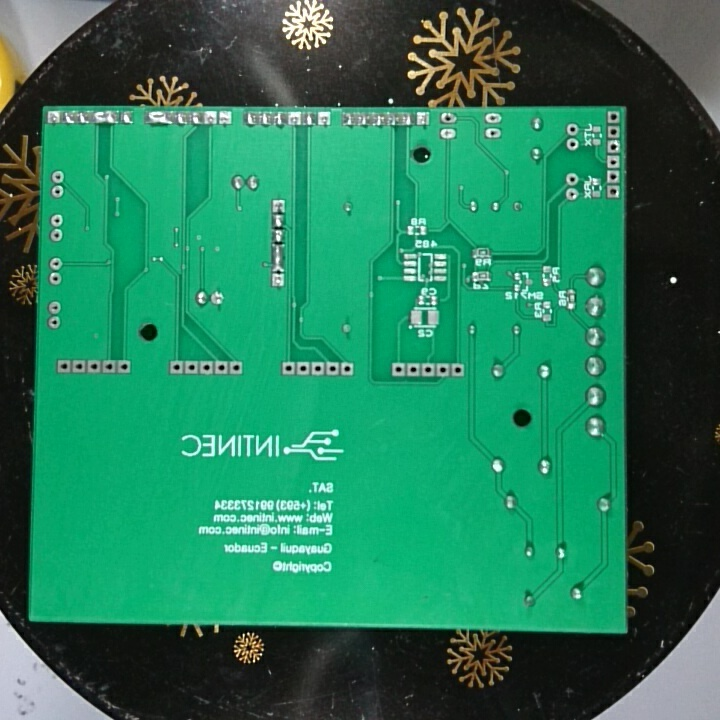F: (336, 320, 356, 339), (116, 357, 135, 376), (45, 269, 64, 288), (315, 109, 332, 130), (100, 357, 116, 378), (441, 125, 462, 141), (47, 255, 66, 272), (210, 290, 227, 309), (198, 358, 214, 378), (391, 360, 407, 380), (439, 112, 461, 126), (55, 358, 73, 375), (167, 358, 184, 376), (47, 226, 64, 244), (86, 356, 101, 376), (484, 126, 507, 139), (270, 272, 290, 286), (202, 109, 216, 129), (71, 359, 87, 376), (310, 360, 326, 377), (510, 198, 526, 215), (50, 184, 66, 201), (604, 123, 622, 138), (50, 168, 65, 186), (484, 111, 503, 125), (407, 360, 420, 380), (421, 360, 434, 380), (279, 360, 295, 376), (565, 138, 581, 154), (213, 358, 228, 375), (48, 212, 65, 227), (47, 299, 64, 314), (183, 360, 197, 378), (436, 362, 450, 380), (326, 358, 339, 377), (605, 186, 621, 201), (605, 109, 621, 124), (564, 185, 580, 200), (47, 314, 63, 329), (450, 363, 464, 380), (47, 111, 61, 128), (218, 110, 231, 128), (272, 197, 287, 212), (339, 360, 353, 376), (607, 153, 621, 169), (565, 171, 581, 185), (417, 112, 430, 129), (296, 360, 310, 375), (606, 169, 621, 183), (607, 140, 621, 155), (565, 123, 581, 136), (288, 111, 301, 127), (230, 358, 242, 375)
P: (272, 242, 288, 272), (146, 110, 174, 126), (93, 111, 118, 126)
